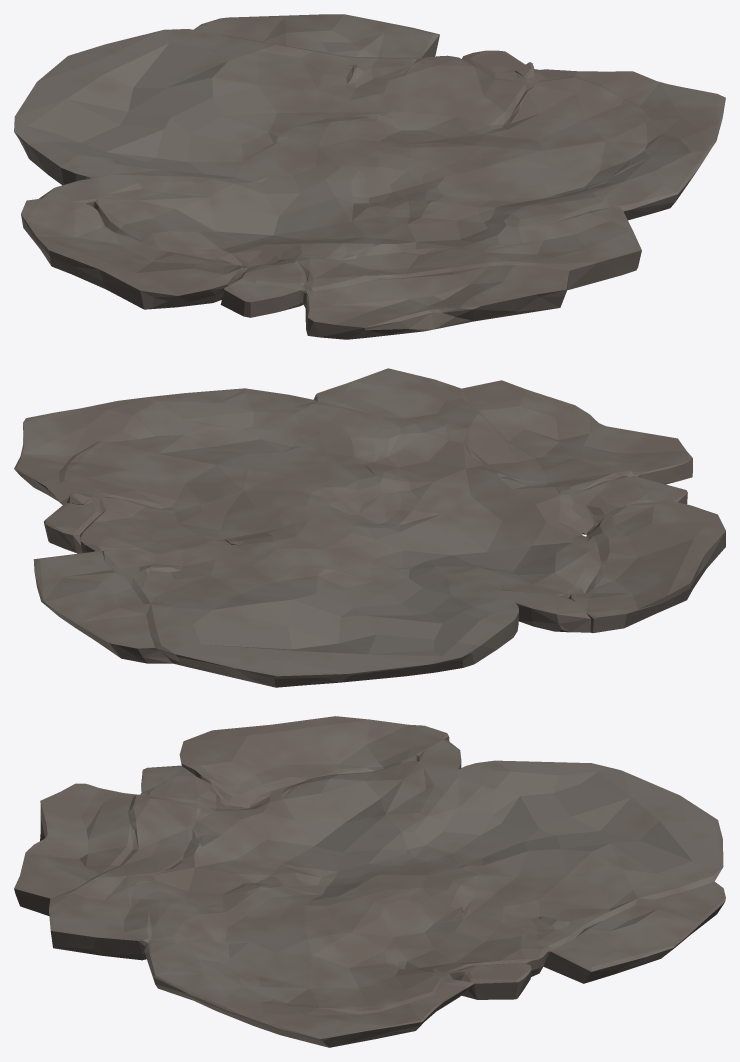
Rendered from ground.fbx.
3 views of the same model, one above another, from view 1: azimuth 30°, elevation 25°; view 2: azimuth 150°, elevation 25°; view 3: azimuth 270°, elevation 25° (orthographic). The views are drawn at different scales.
Visible parts, largest first — view 1: ground; view 2: ground; view 3: ground.
Boxes of the visible parts, x1,y1,x2,y2 form: ground: (14, 14, 725, 339); ground: (14, 368, 725, 687); ground: (14, 716, 725, 1047).
Size of the model in its own units: 112 by 7.04 by 106.
